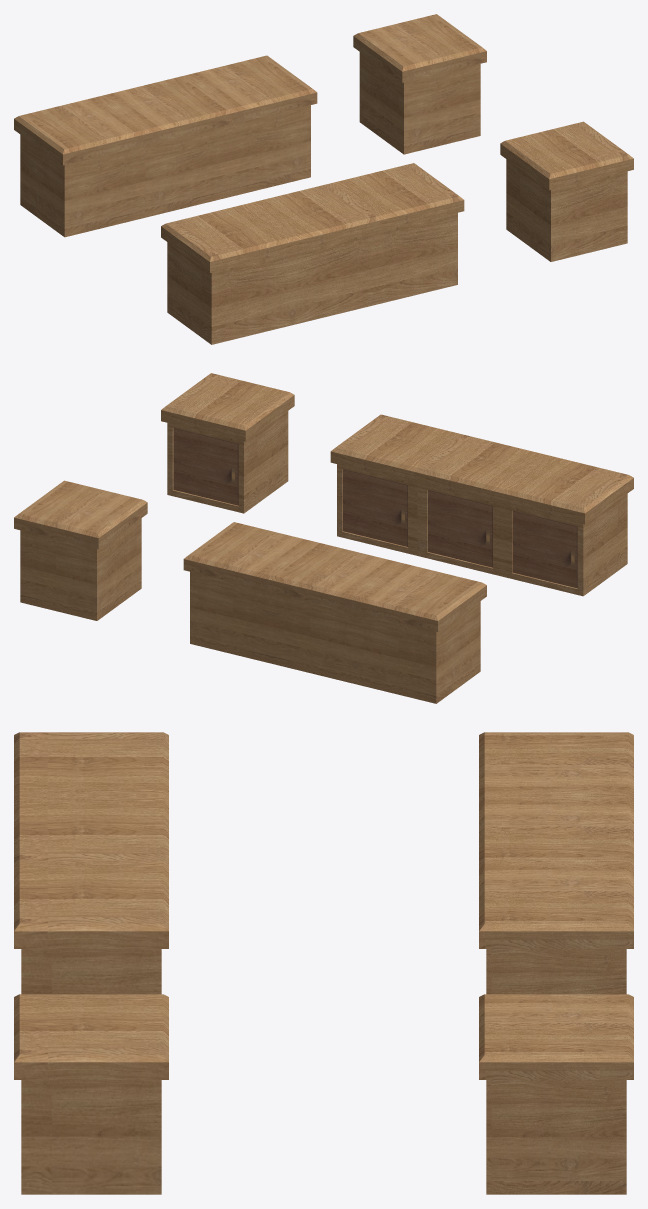
File: KitchenTable.fbx
3 views of the same model, one above another, from view 1: azimuth 30°, elevation 25°; view 2: azimuth 150°, elevation 25°; view 3: azimuth 270°, elevation 25° (orthographic). The views are drawn at different scales.
Parts seen in each view (by area): view 1: Cube.007, Cube.003, Cube, Cube.004, Cube.002, Cube.006, Cube.001, Cube.005; view 2: Cube.003, Cube.007, Cube, Cube.004, Cube.006, Cube.002, Cube.005, Cube.001; view 3: Cube, Cube.004, Cube.001, Cube.005, Cube.002, Cube.006, Cube.003, Cube.007.
Part boxes in pixels (x1=…): Cube.007: x1=161, y1=203, x2=294, y2=344; Cube.003: x1=14, y1=96, x2=147, y2=237; Cube: x1=353, y1=14, x2=486, y2=154; Cube.004: x1=500, y1=121, x2=633, y2=261; Cube.002: x1=101, y1=75, x2=232, y2=217; Cube.006: x1=248, y1=183, x2=379, y2=324; Cube.001: x1=186, y1=55, x2=317, y2=196; Cube.005: x1=333, y1=163, x2=464, y2=304; Cube.003: x1=353, y1=562, x2=486, y2=703; Cube.007: x1=500, y1=455, x2=633, y2=596; Cube: x1=14, y1=480, x2=147, y2=620; Cube.004: x1=161, y1=373, x2=294, y2=513; Cube.006: x1=415, y1=434, x2=546, y2=576; Cube.002: x1=268, y1=542, x2=399, y2=683; Cube.005: x1=330, y1=414, x2=461, y2=555; Cube.001: x1=183, y1=522, x2=314, y2=663; Cube: x1=479, y1=994, x2=633, y2=1194; Cube.004: x1=14, y1=994, x2=168, y2=1194; Cube.001: x1=479, y1=861, x2=633, y2=994; Cube.005: x1=14, y1=861, x2=168, y2=994; Cube.002: x1=479, y1=795, x2=633, y2=865; Cube.006: x1=14, y1=795, x2=168, y2=865; Cube.003: x1=479, y1=732, x2=633, y2=799; Cube.007: x1=14, y1=732, x2=168, y2=799.
Bounding box in the file's own units: 500 × 100 × 400.
Materials: 2 (2 with a texture image).
